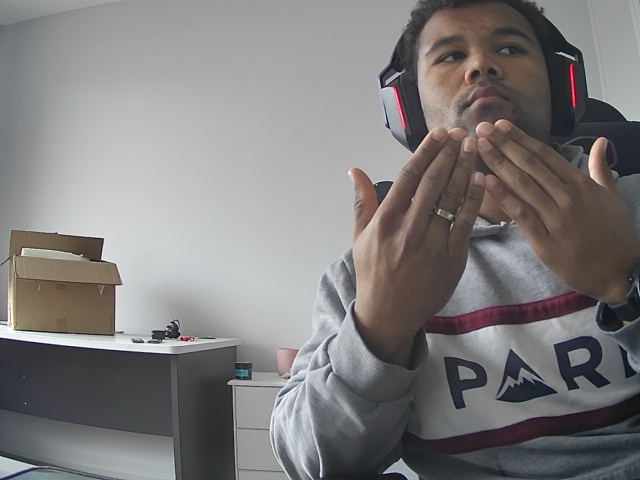ThankYou: (334, 116, 640, 350)
